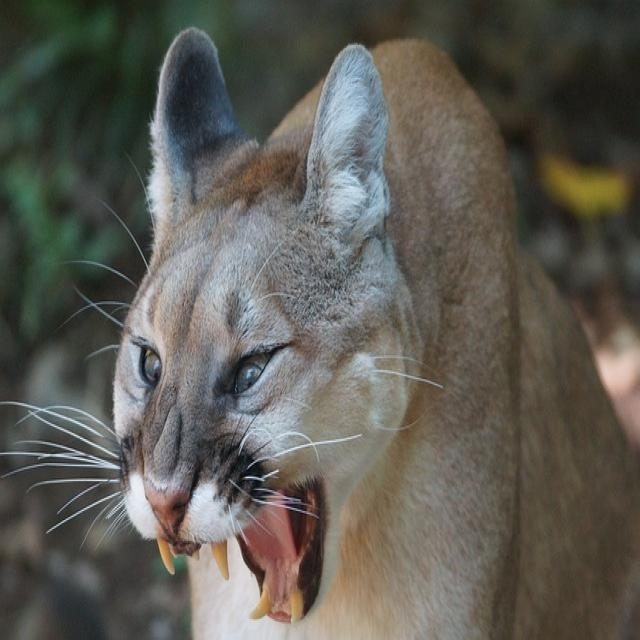Carnivorous: (110, 28, 640, 640)
